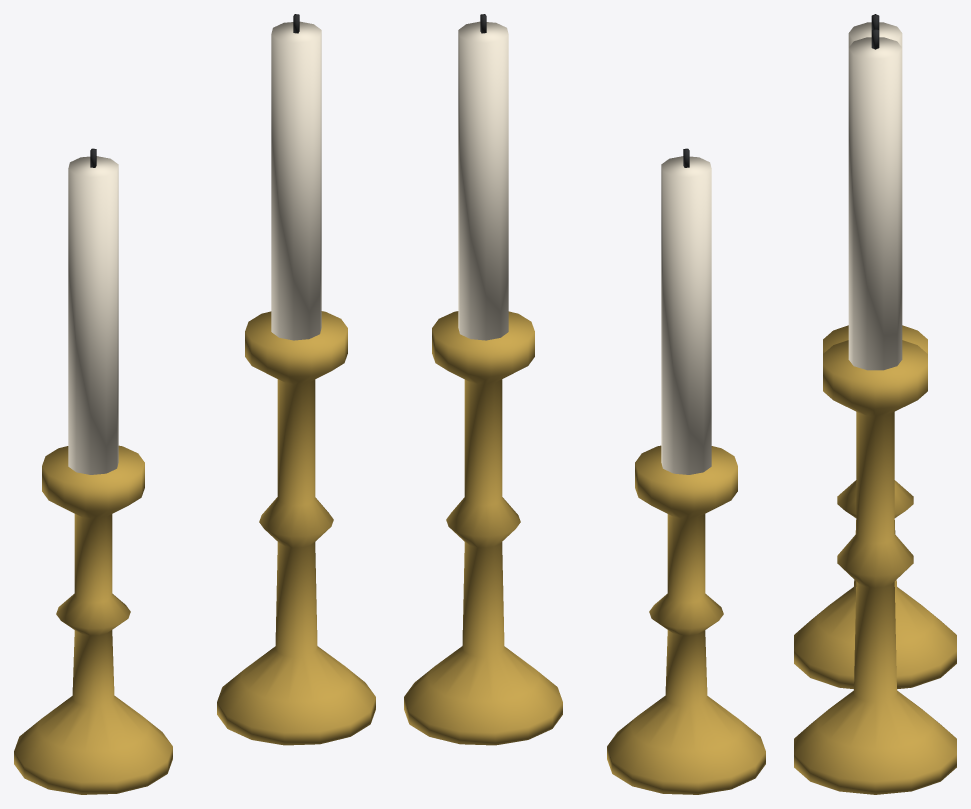
Rendered from candlesticks.glb.
3 views of the same model, side by side, from view 1: azimuth 30°, elevation 25°; view 2: azimuth 150°, elevation 25°; view 3: azimuth 270°, elevation 25° (orthographic). The views are drawn at different scales.
Parts seen in each view (by area): view 1: candlesticks; view 2: candlesticks; view 3: candlesticks.
Part boxes in pixels (left/top/right/bottom): candlesticks: left=14, top=14, right=375, bottom=794; candlesticks: left=404, top=14, right=765, bottom=794; candlesticks: left=794, top=14, right=956, bottom=794.
Bounding box in the file's own units: 0.168 × 0.328 × 0.0663.
